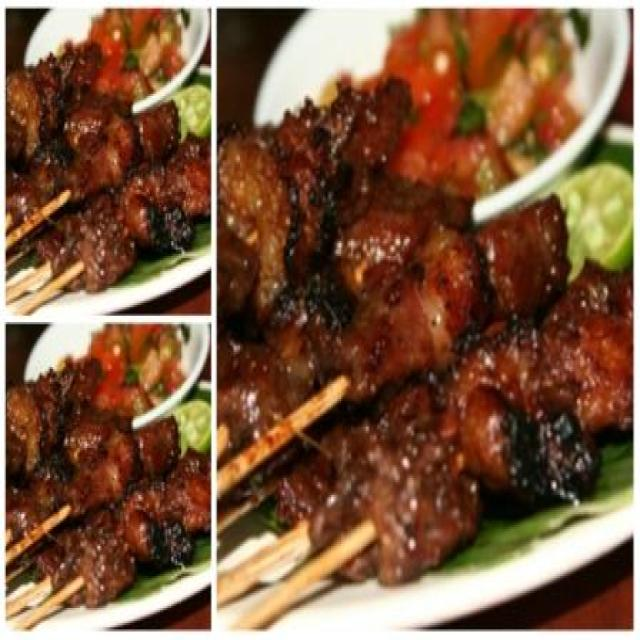Sate: (218, 80, 624, 614), (5, 348, 212, 618), (4, 36, 210, 296)
